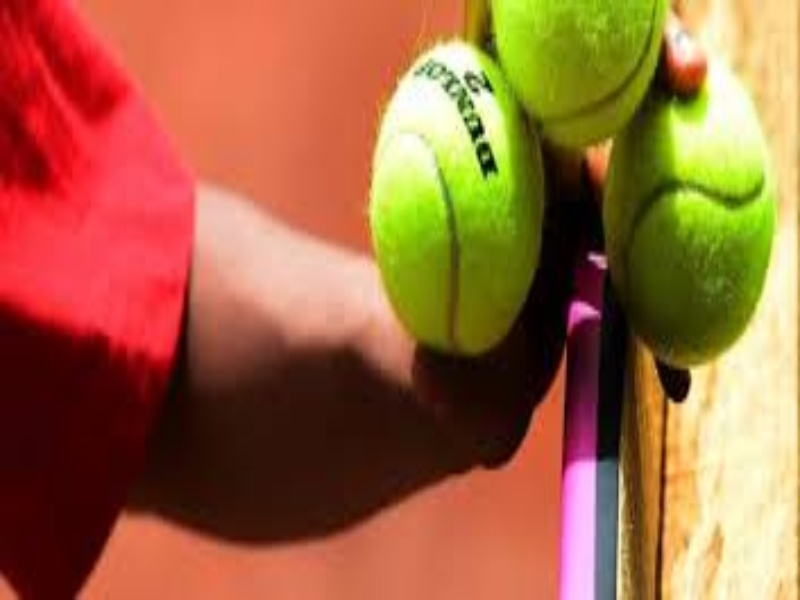tennis ball: (373, 35, 548, 359), (603, 56, 777, 378), (481, 1, 672, 148)
